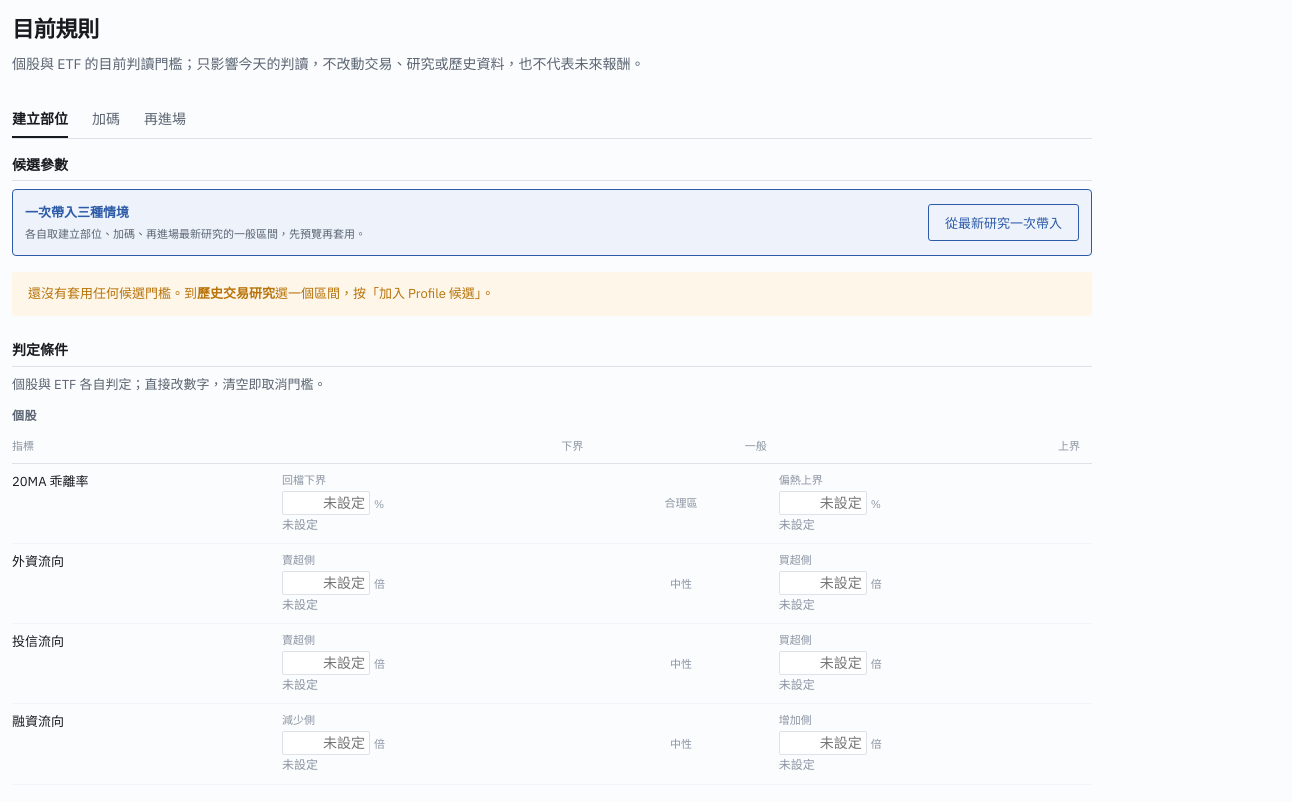
Test: 情境 Profile › 沒有可用候選時顯示說明，不開啟空白預覽
The width and height of the screenshot is (1292, 802).
Click the button "從最新研究一次帶入": [1004, 223] box [928,204,1079,241]
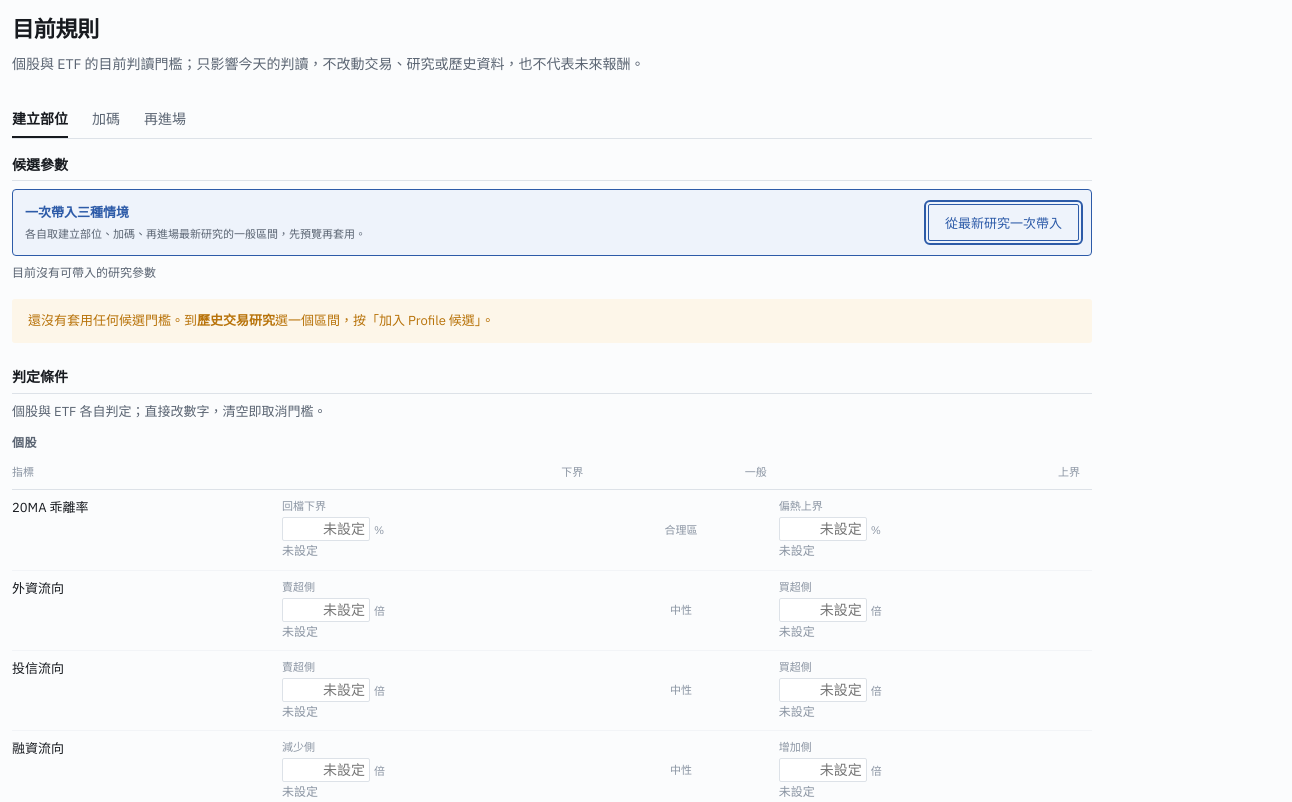
Expected: the text "目前沒有可帶入的研究參數" is shown, [12,265,156,280]
